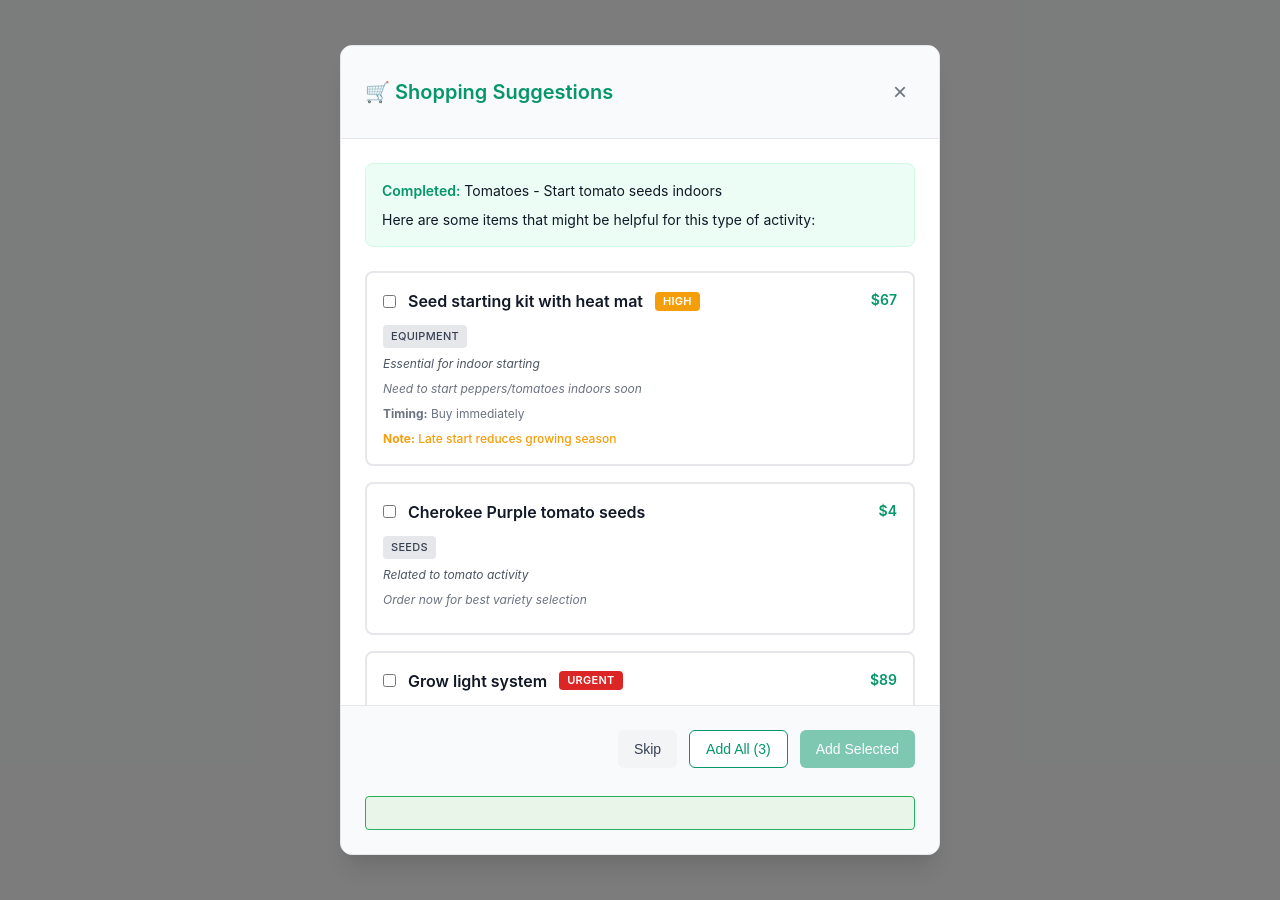
Test: ShoppingSuggestionModal › should handle suggestion deselection
# Select then deselect
Click the checkbox next to "Seed starting kit with heat mat": (390, 301) [383,294,396,308]
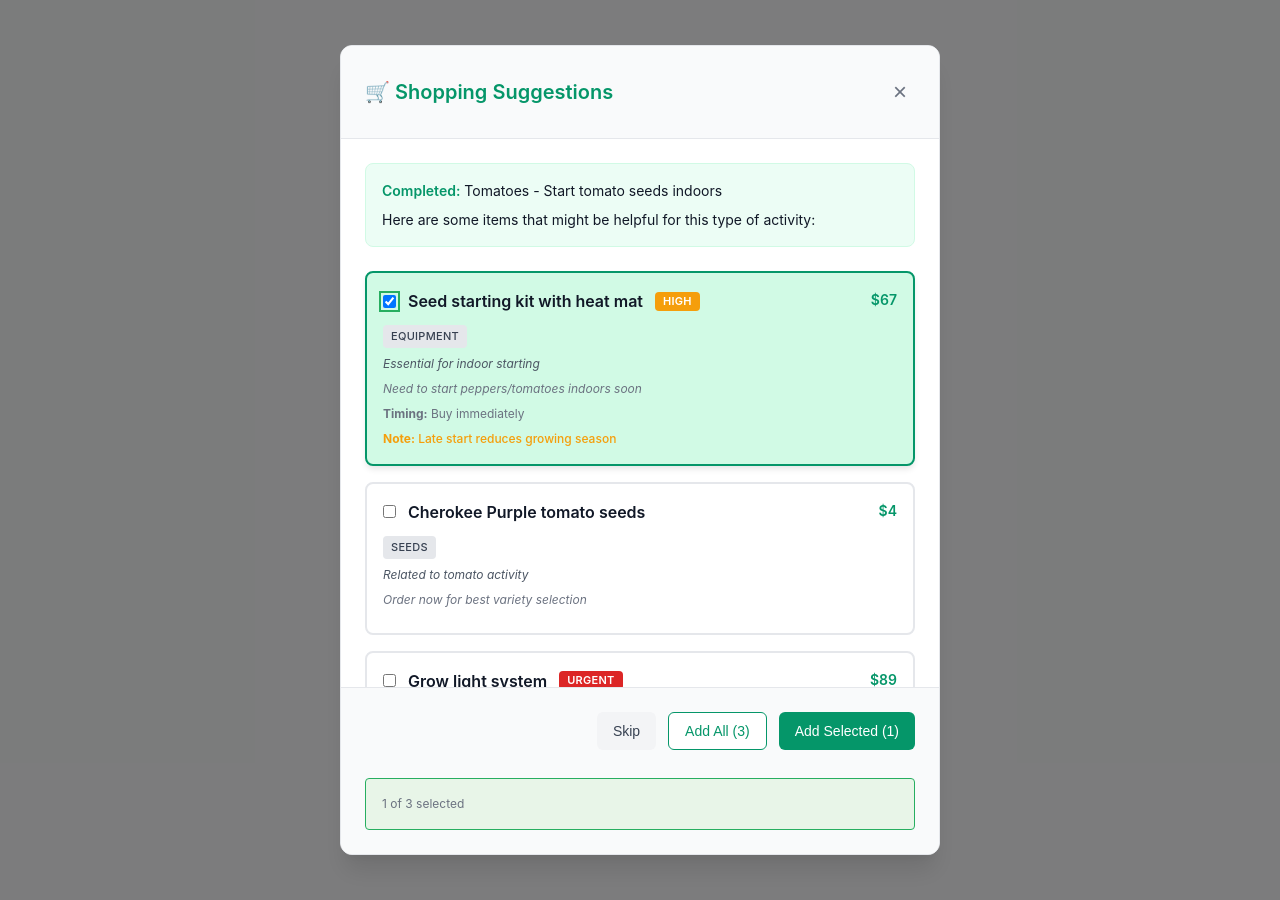
Click the checkbox next to "Seed starting kit with heat mat": (390, 301) [383,294,396,308]
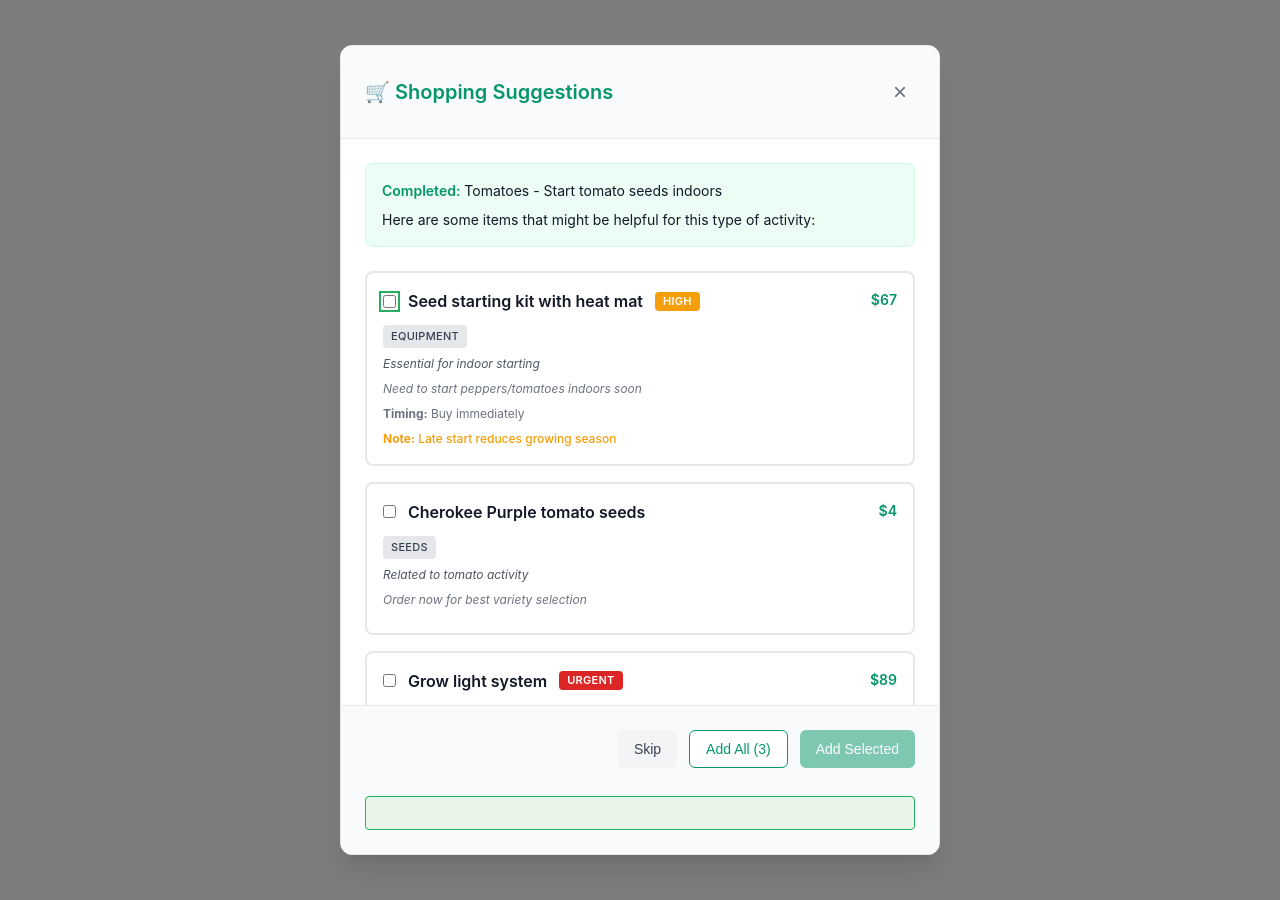
Check: the checkbox next to "Seed starting kit with heat mat" is not checked, box [383,294,396,308]
Check: the text "1 of 3 selected" is gone
